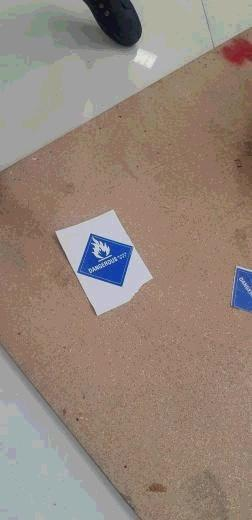dangerous-when-wet: (77, 233, 134, 285), (233, 267, 252, 319)
